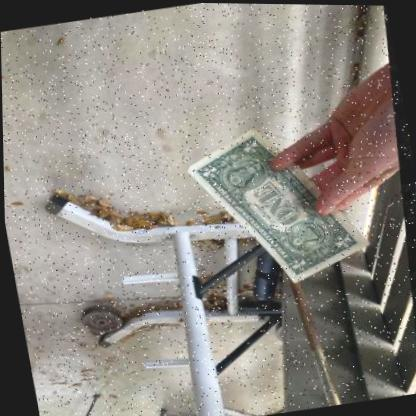one-back: (185, 125, 372, 281)
